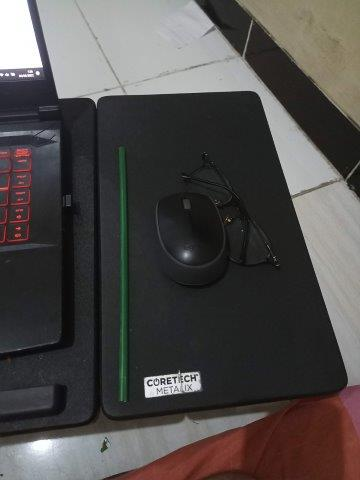sedotan: (117, 147, 127, 402)
